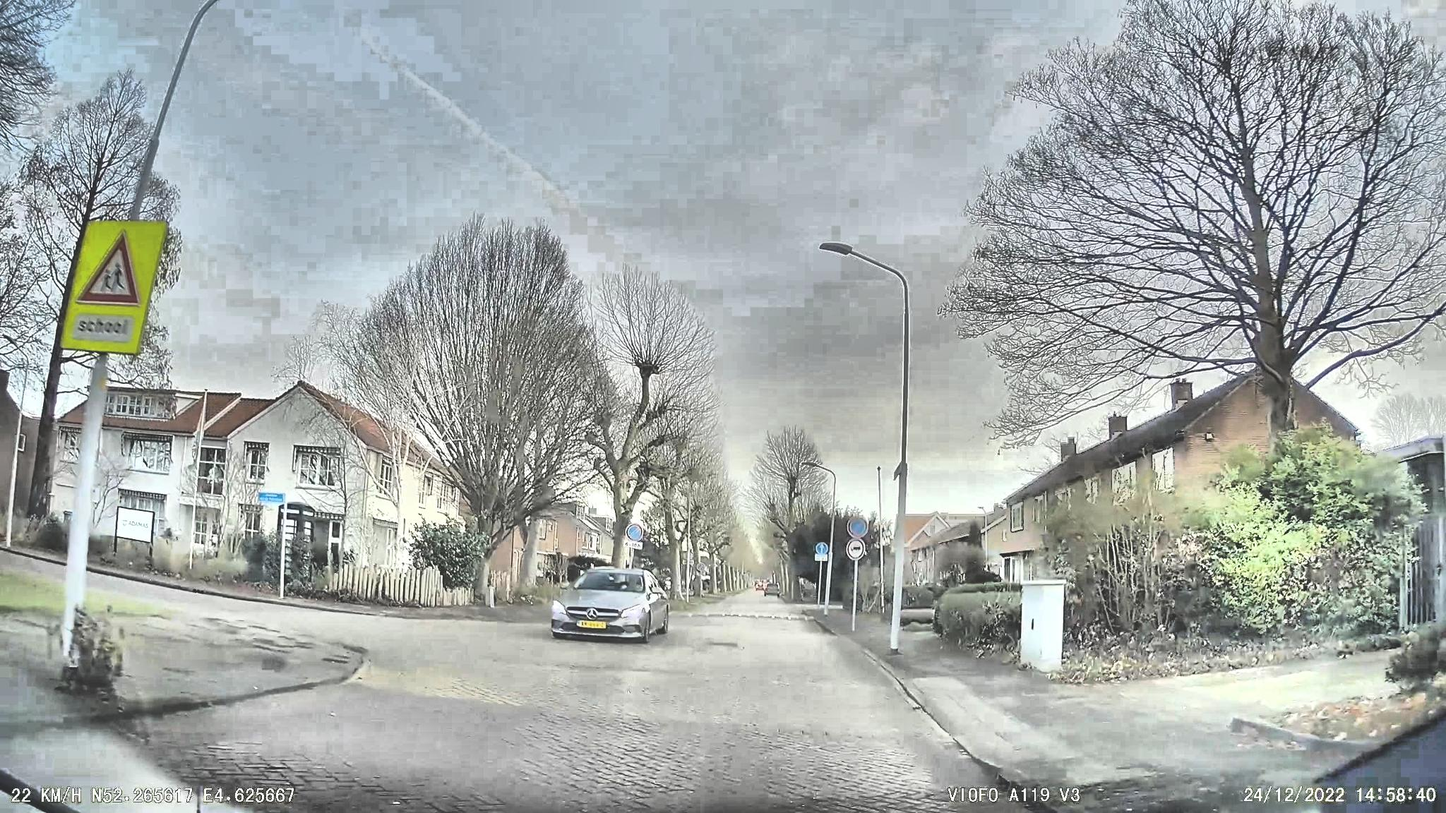Roads: (106, 583, 1031, 813)
